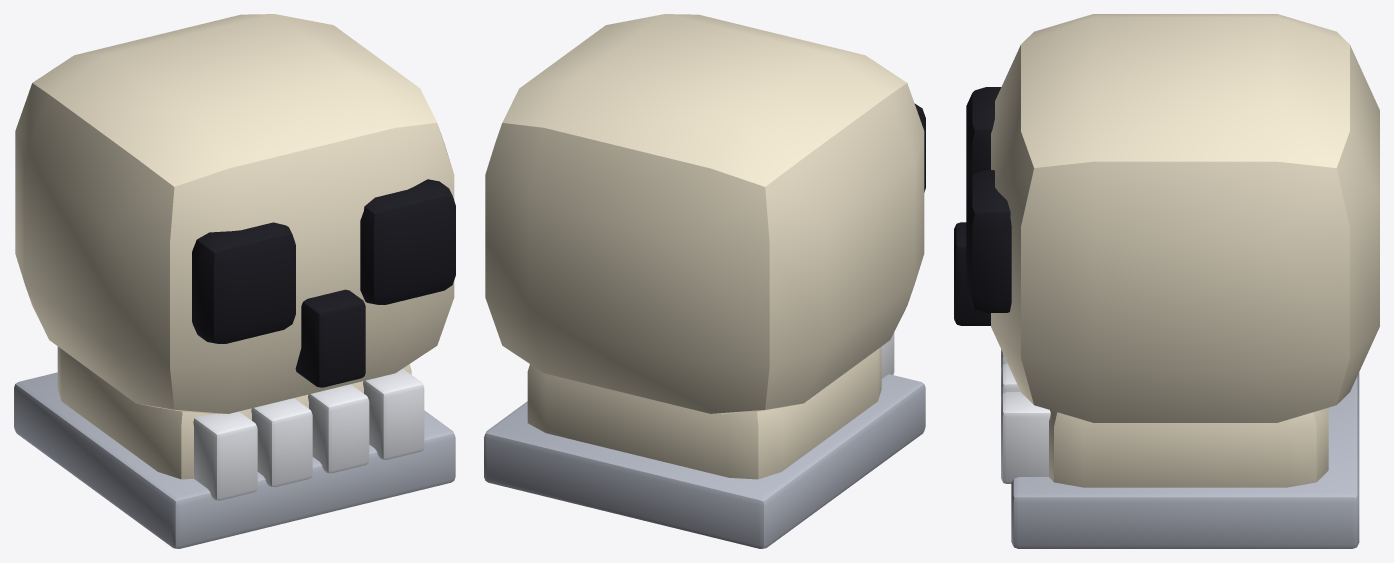
Rendered from prop_20_skull.glb.
3 views of the same model, side by side, from view 1: azimuth 30°, elevation 25°; view 2: azimuth 150°, elevation 25°; view 3: azimuth 270°, elevation 25° (orthographic). The views are drawn at different scales.
Parts seen in each view (by area): view 1: Prop; view 2: Prop; view 3: Prop.
Boxes of the visible parts, x1,y1,x2,y2 form: Prop: (14,14,455,548); Prop: (484,14,925,548); Prop: (954,14,1379,548).
Size of the model in its own units: 0.28 by 0.315 by 0.2912.
1 material, 1 textured.
